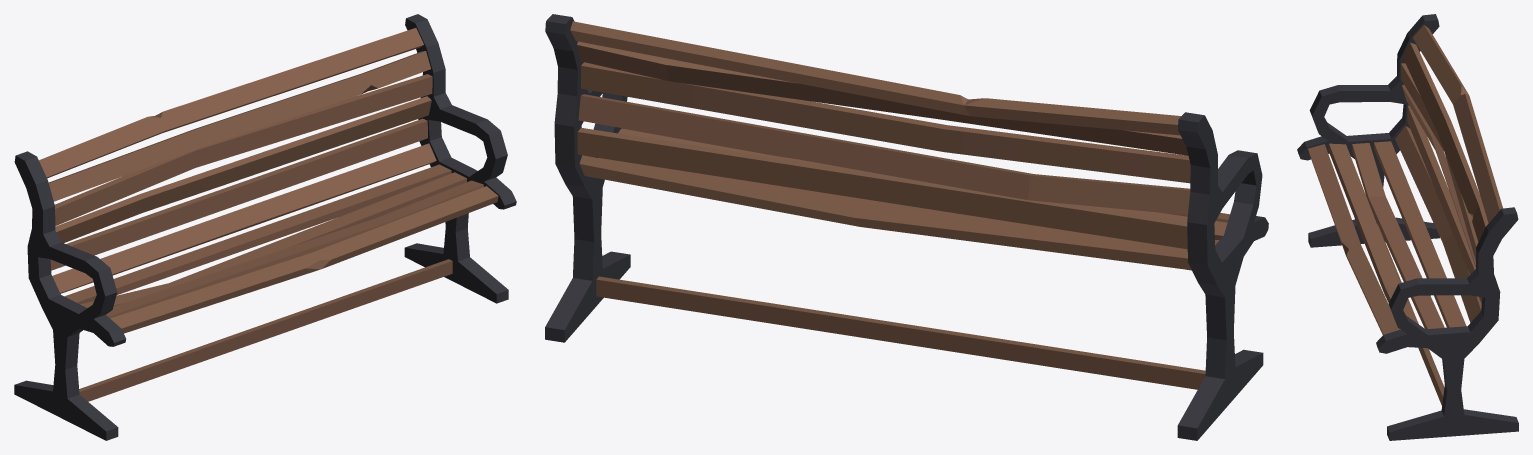
The model's file is event_4.fbx.
3 renders of one model, left to right at view 1: azimuth 30°, elevation 25°; view 2: azimuth 150°, elevation 25°; view 3: azimuth 270°, elevation 25°, orthographic. The views are drawn at different scales.
Parts seen in each view (by area): view 1: event_04; view 2: event_04; view 3: event_04.
Part boxes in pixels (left/top/right/bottom): event_04: left=14, top=14, right=516, bottom=440; event_04: left=545, top=14, right=1268, bottom=440; event_04: left=1297, top=14, right=1518, bottom=440.
Bounding box in the file's own units: 0.7811 × 0.3802 × 0.3496.
1 material, 1 textured.
